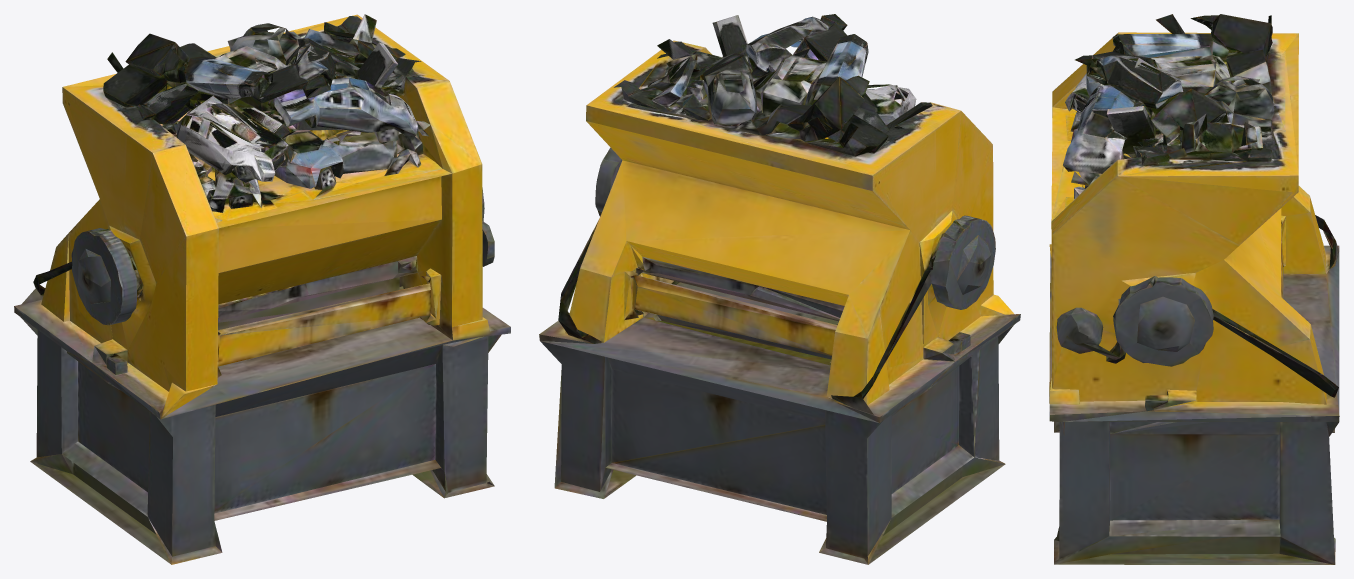
The model's file is training-hero.glb.
The picture shows the model from 3 angles, left to right: view 1: azimuth 30°, elevation 25°; view 2: azimuth 150°, elevation 25°; view 3: azimuth 270°, elevation 25°; orthographic projection. The views are drawn at different scales.
Bounding box in the file's own units: 1.74 × 1.9 × 1.14.
1 material, 1 textured.
